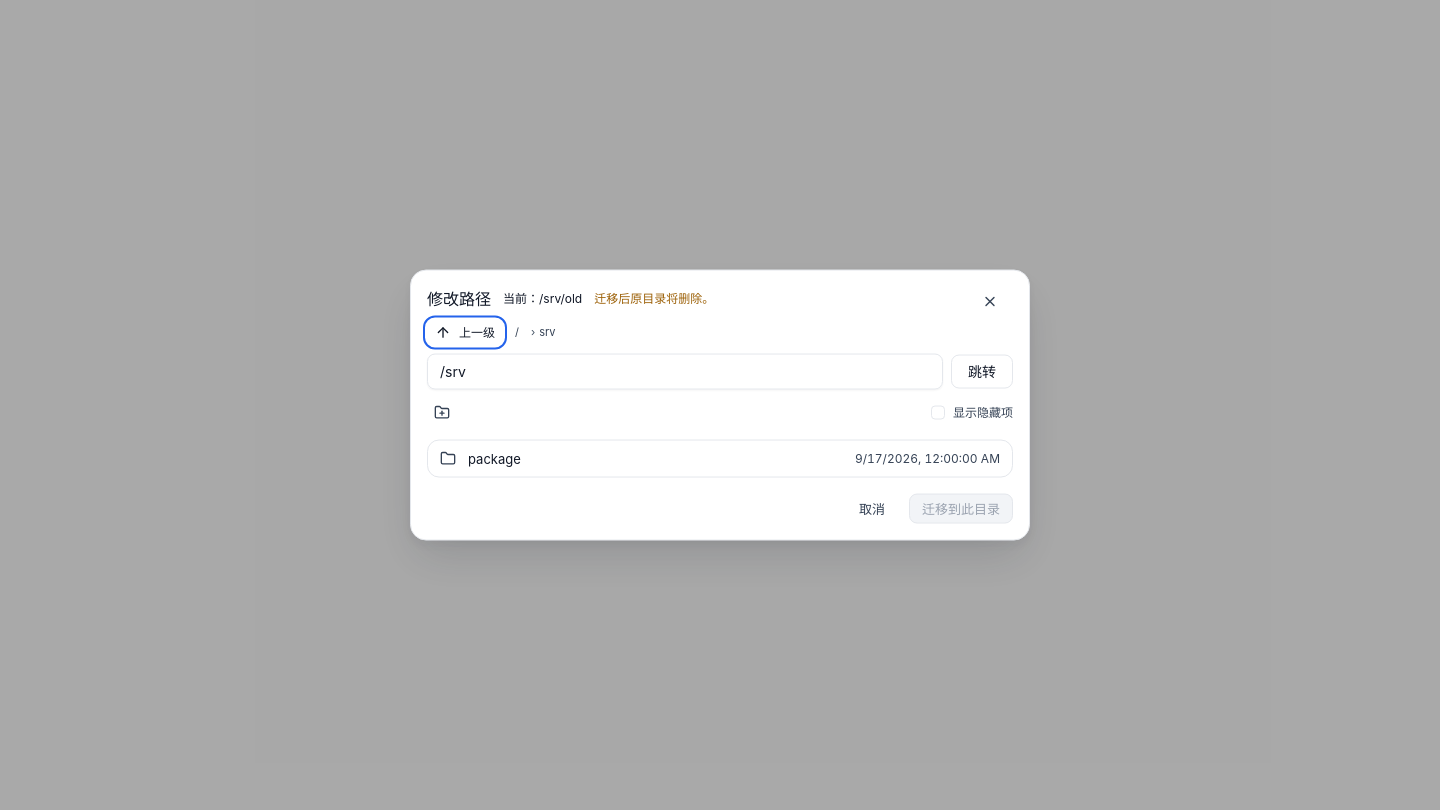
Test: 迁移一条龙成功：完成给结果句、选择动作退场
Click the button "package" at (494, 458), box [440, 448, 843, 468]
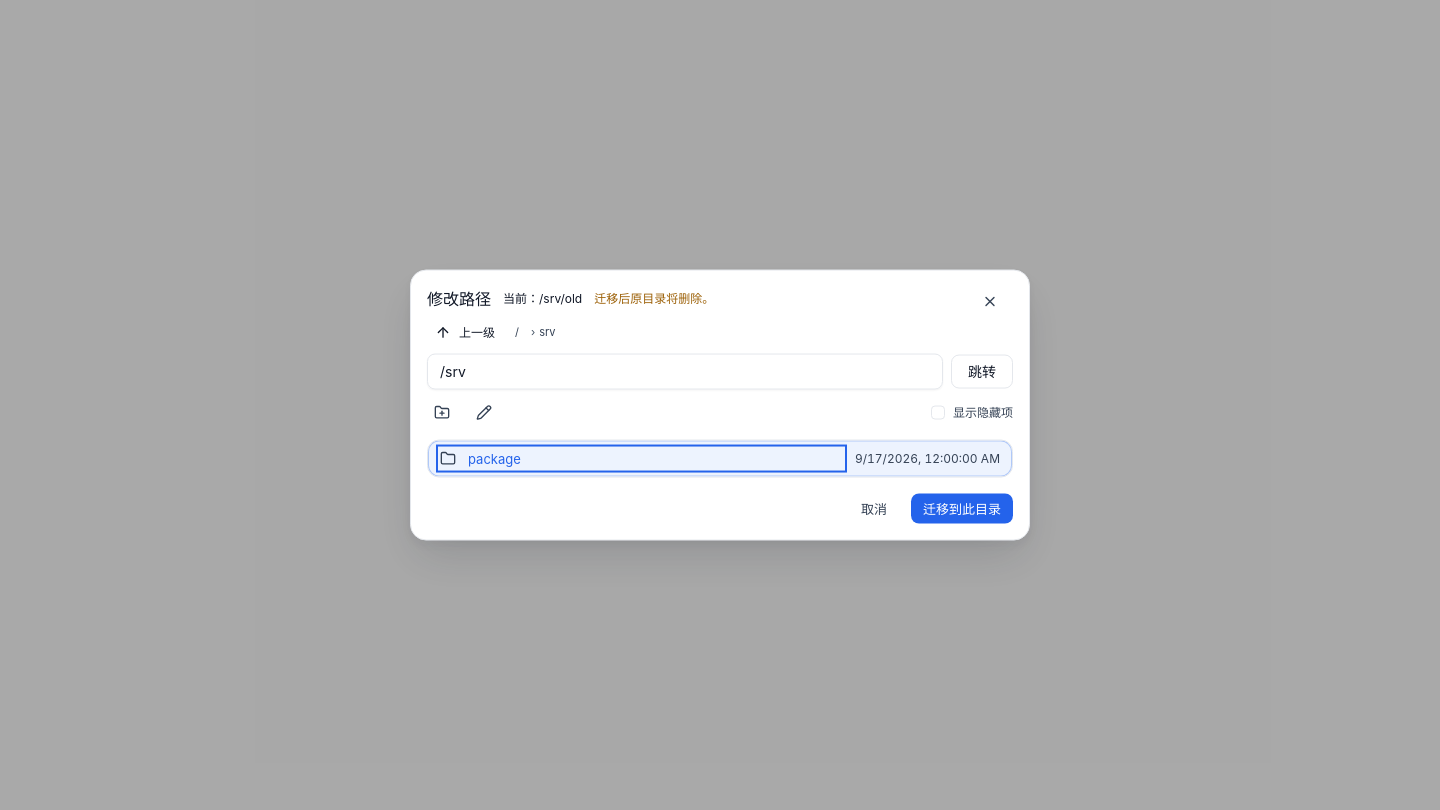
Click the button "迁移到此目录" at (962, 508), box [911, 494, 1013, 524]
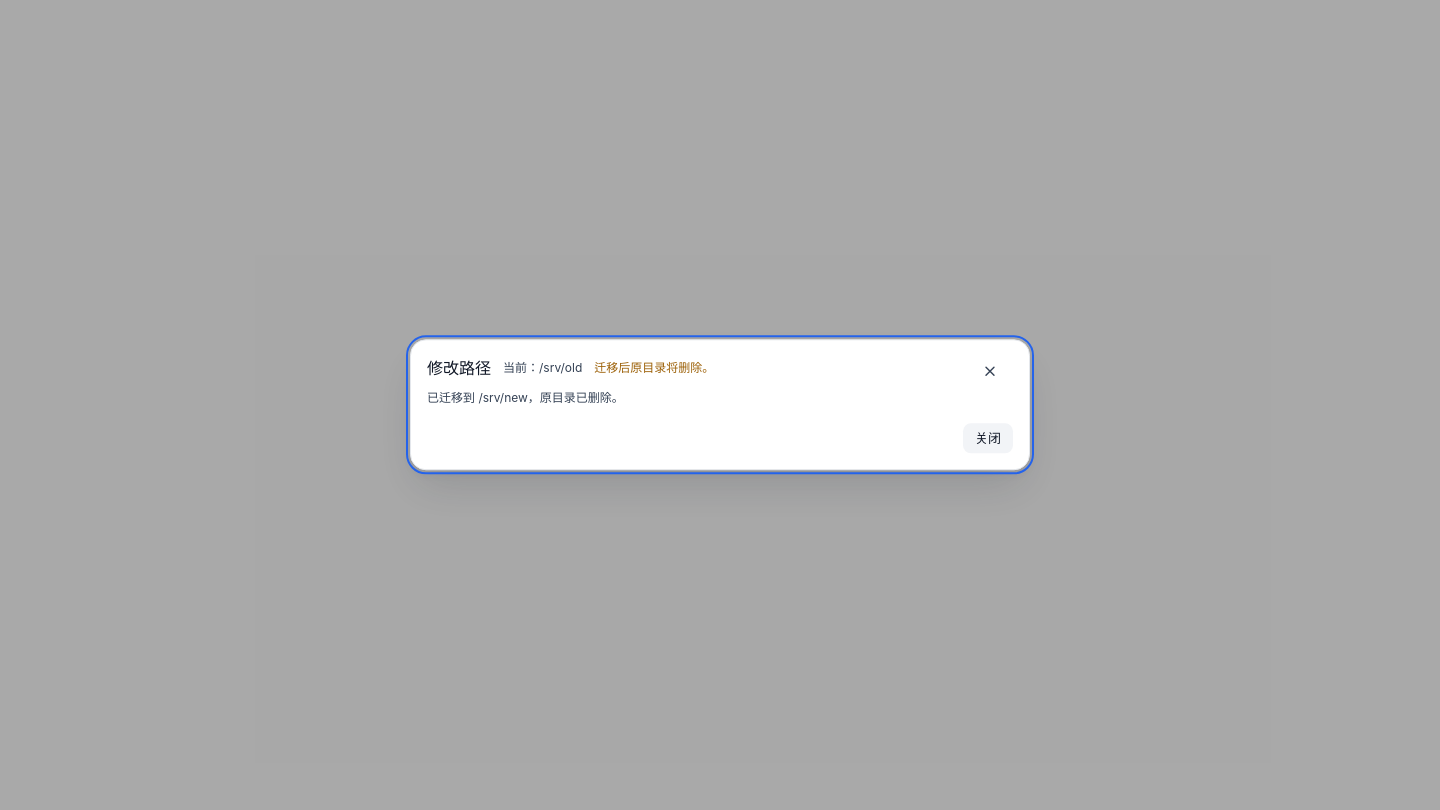
Expected: the text "已迁移到 /srv/new，原目录已删除。" is shown, [427, 390, 624, 405]
Expected: the button "迁移到此目录" is gone
